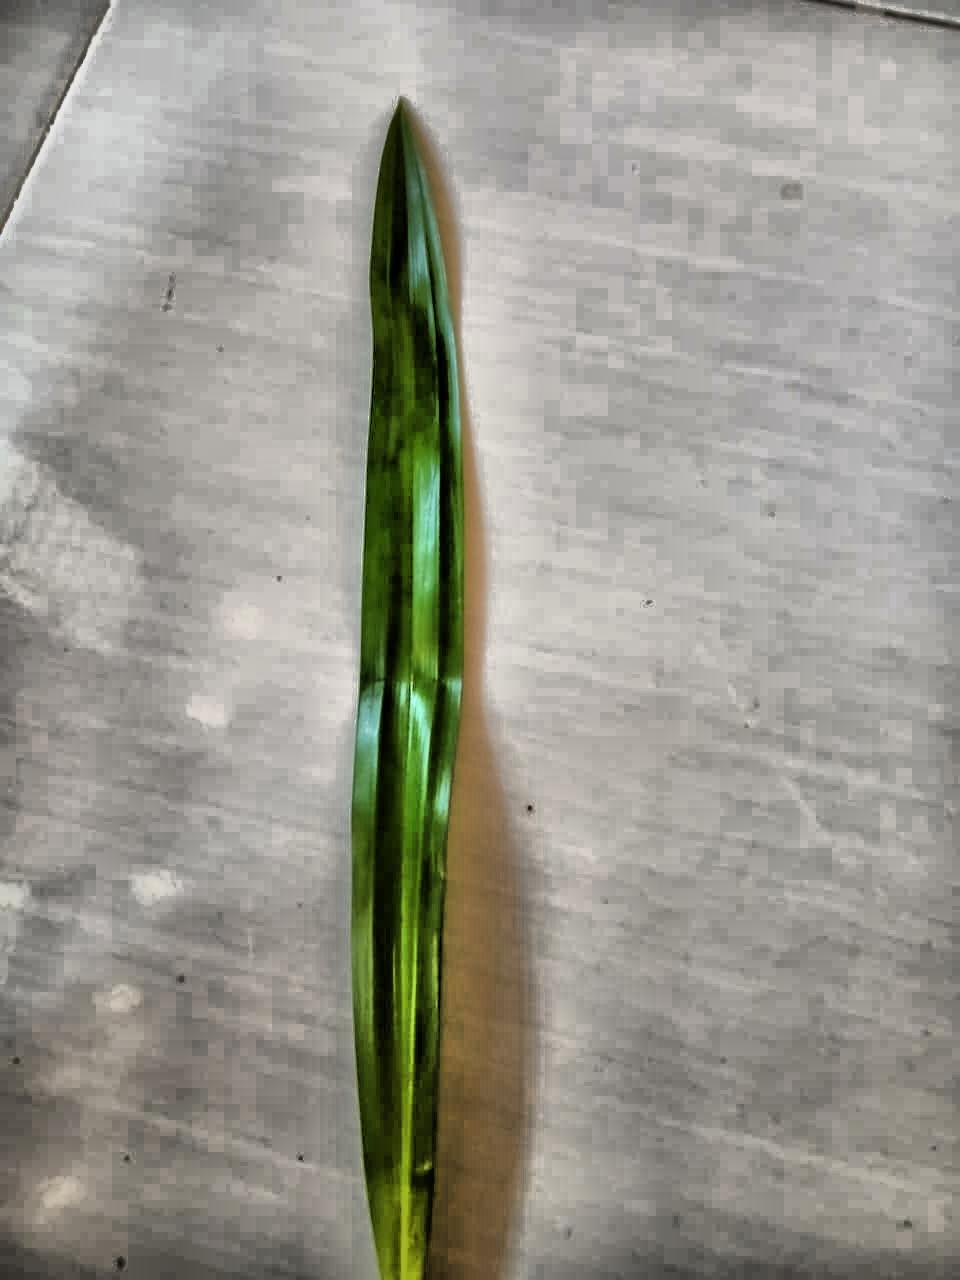daun pandan: (351, 101, 464, 1279)
